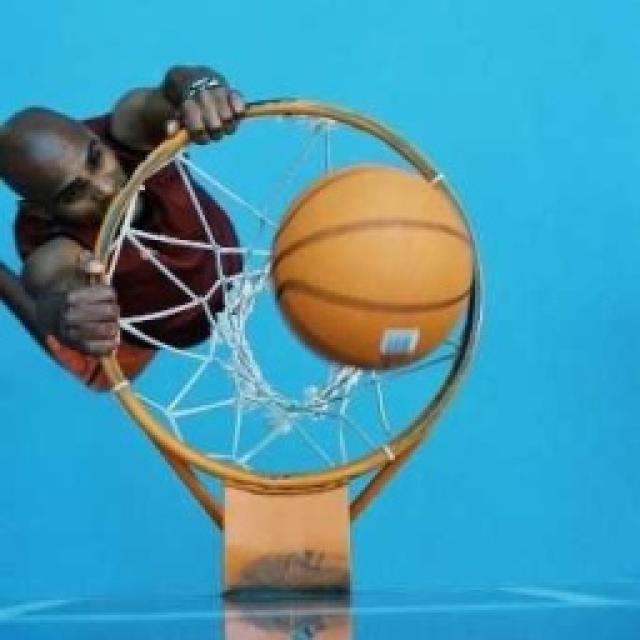rim: (274, 165, 470, 363)
